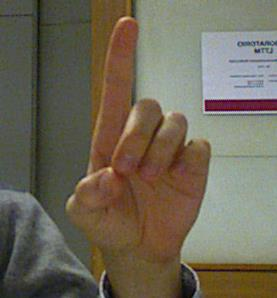up: (59, 11, 215, 258)
